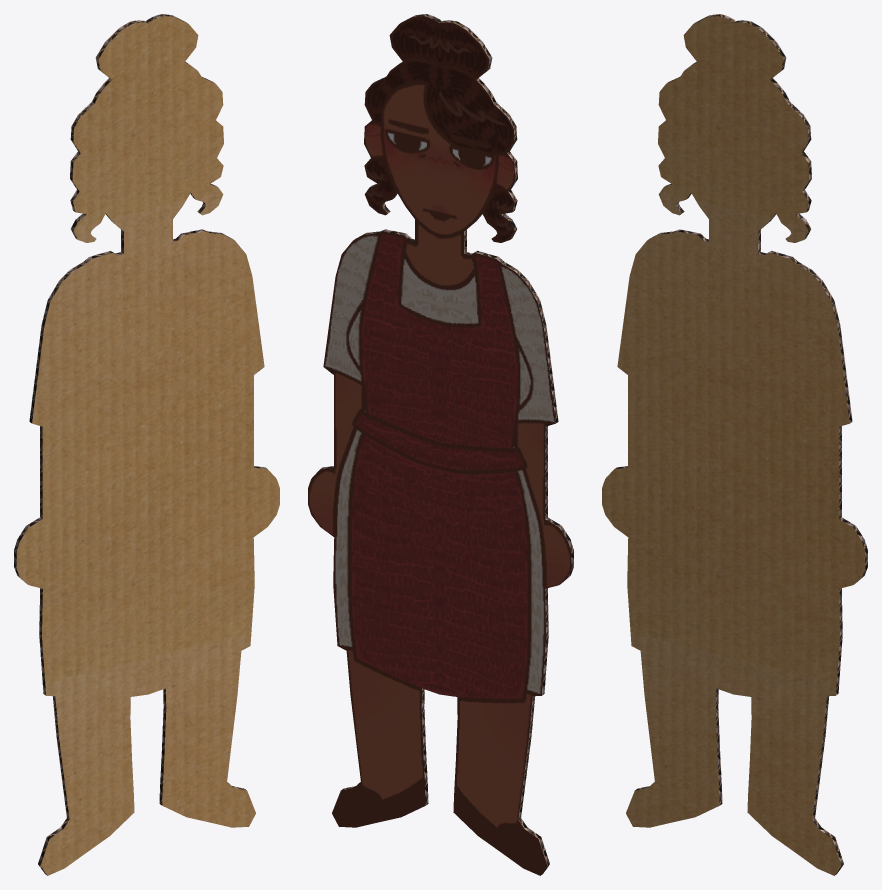
The model's file is VERDULERA.glb.
3 renders of one model, left to right at view 1: azimuth 30°, elevation 25°; view 2: azimuth 150°, elevation 25°; view 3: azimuth 330°, elevation 25°, orthographic.
Parts seen in each view (by area): view 1: VERDULERA; view 2: VERDULERA; view 3: VERDULERA.
Boxes of the visible parts, left/top/right/bottom form: VERDULERA: left=14, top=14, right=279, bottom=875; VERDULERA: left=308, top=14, right=573, bottom=875; VERDULERA: left=602, top=14, right=867, bottom=875.
Bounding box in the file's own units: 5.62 × 16.99 × 0.1.
1 material, 1 textured.
